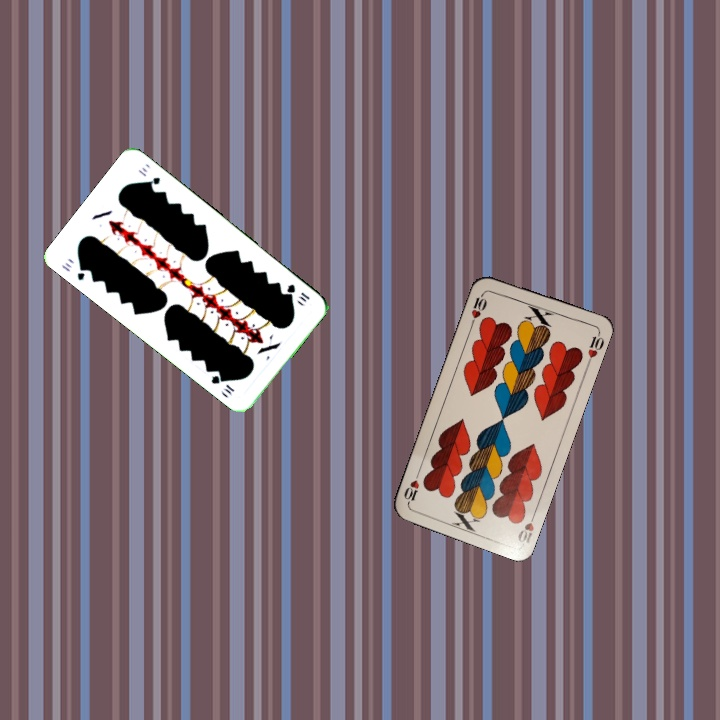G10: (57, 258, 89, 283), (282, 280, 312, 306)
H10: (514, 507, 539, 546), (467, 288, 489, 327)
